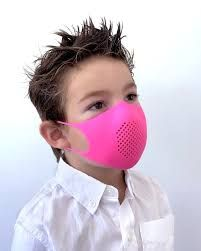with-mask: (49, 48, 162, 175)
